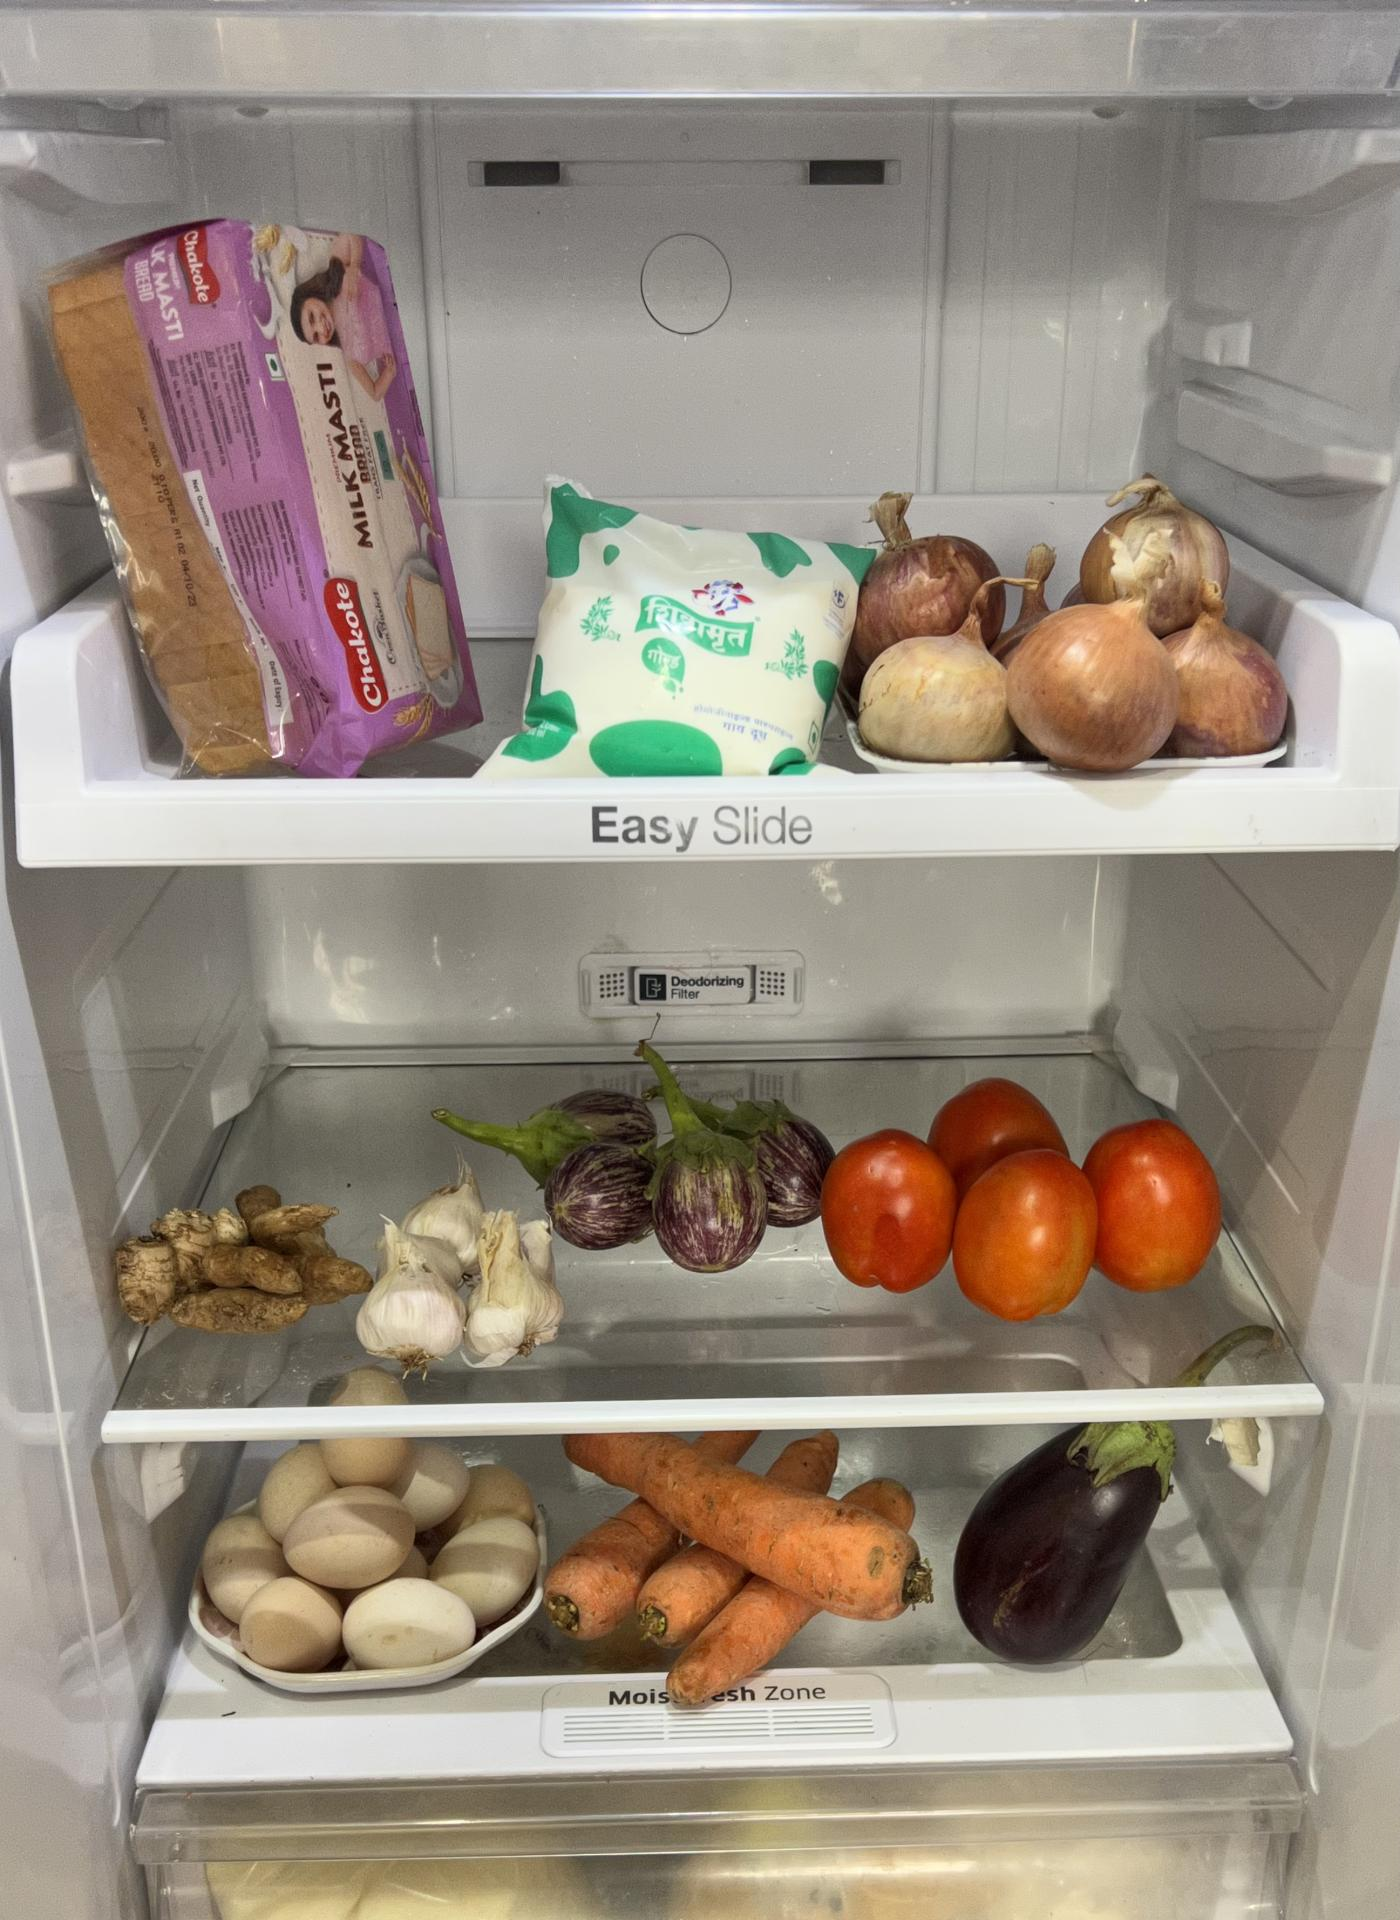bread: (40, 218, 479, 781)
carrots: (546, 1434, 945, 1704)
egg: (195, 1444, 546, 1679)
garlic: (352, 1178, 562, 1374)
ginger: (106, 1181, 358, 1334)
milk: (489, 480, 845, 793)
onion: (859, 484, 1296, 771)
tomato: (823, 1078, 1233, 1322)
